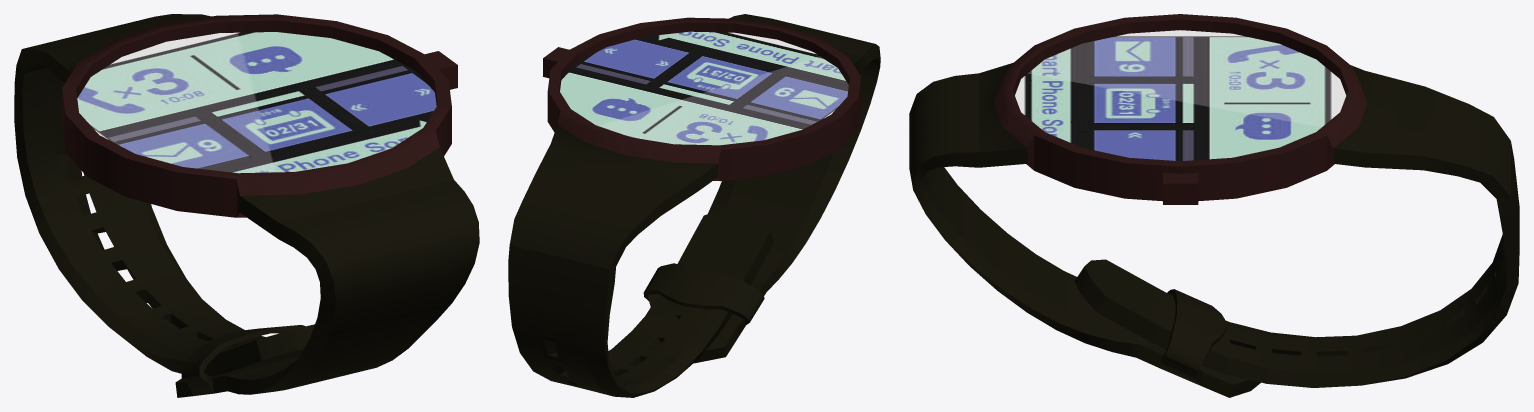
File: reloj_web21.glb
3 views of the same model, side by side, from view 1: azimuth 30°, elevation 25°; view 2: azimuth 150°, elevation 25°; view 3: azimuth 270°, elevation 25° (orthographic). The views are drawn at different scales.
Visible parts, largest first — view 1: pCube8, Cylinder.001; view 2: pCube8, Cylinder.001; view 3: pCube8, Cylinder.001.
Part boxes in pixels (left/top/right/bottom): pCube8: left=14, top=14, right=479, bottom=397; Cylinder.001: left=77, top=32, right=436, bottom=173; pCube8: left=508, top=14, right=880, bottom=397; Cylinder.001: left=560, top=31, right=848, bottom=145; pCube8: left=909, top=14, right=1519, bottom=397; Cylinder.001: left=1015, top=30, right=1346, bottom=161.
Bounding box in the file's own units: 0.2406 × 0.2013 × 0.3821.
3 materials, 1 textured.
